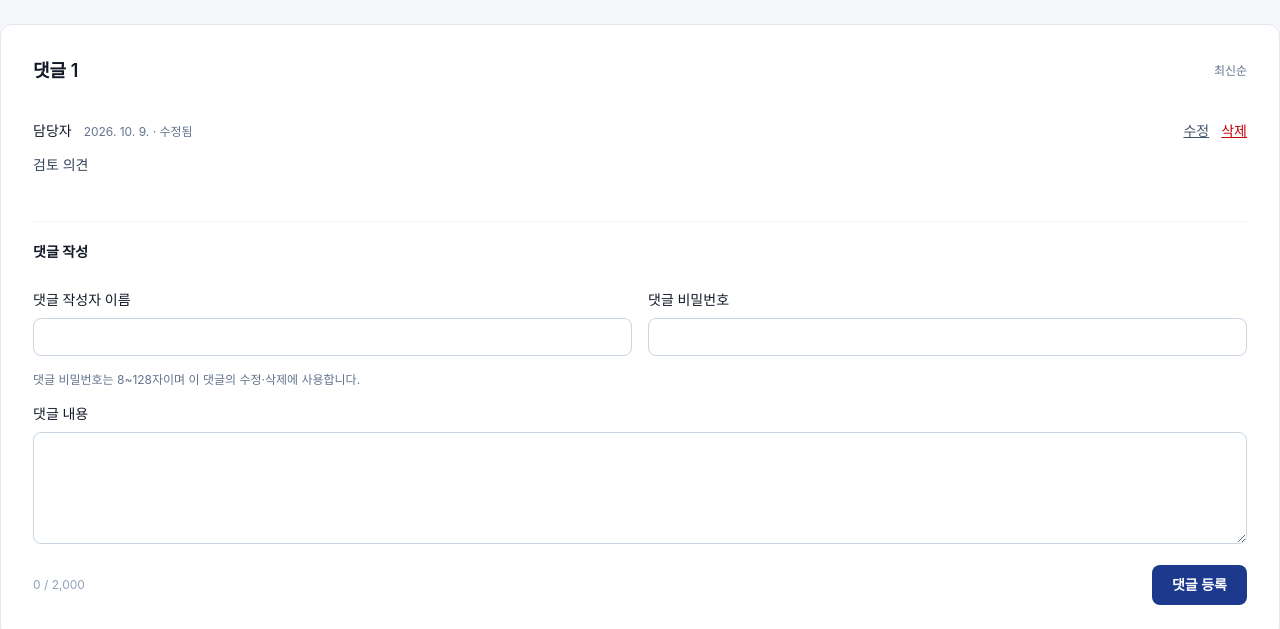
it: board comment workflows › requires a separate confirmation and comment password before deletion
Click the button with aria-label "담당자 댓글 삭제" at (1234,131), box [1221,121,1247,141]
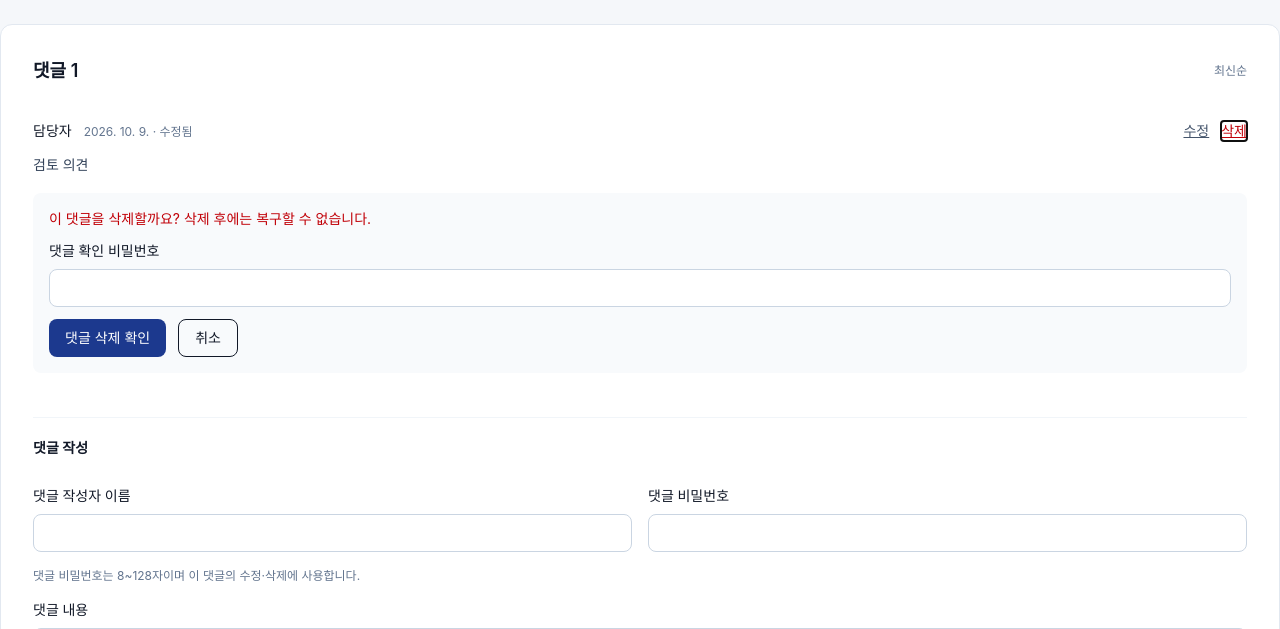
Type "test-comment-password" into the password field labelled "댓글 확인 비밀번호" at (640,288), box [49,269,1231,307]
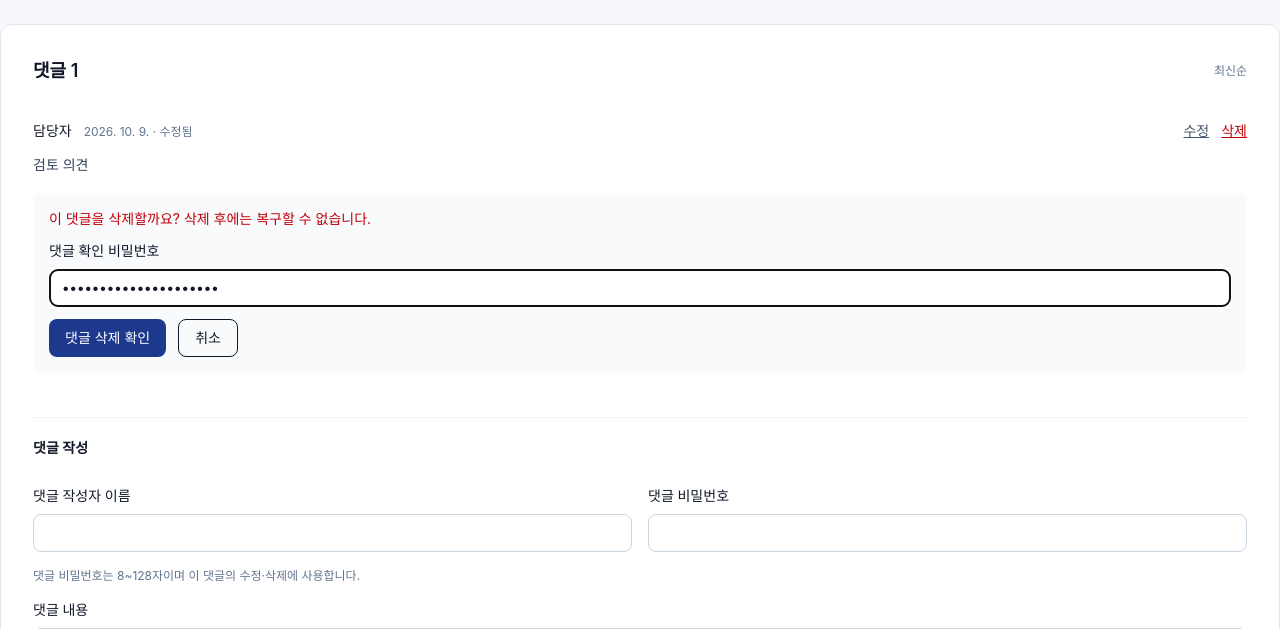
Click the button "댓글 삭제 확인" at (108,338), box [49,319,166,357]
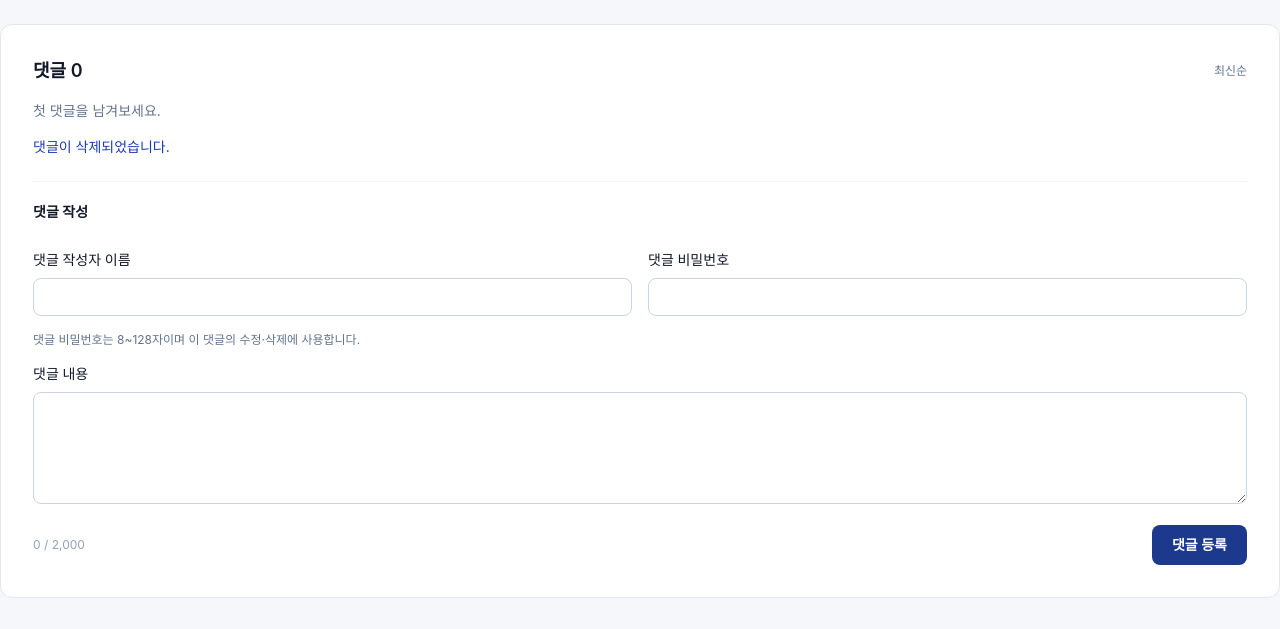
Expected: the text "댓글이 삭제되었습니다." is shown, [33,138,170,155]
Expected: the text "검토 의견" is gone
